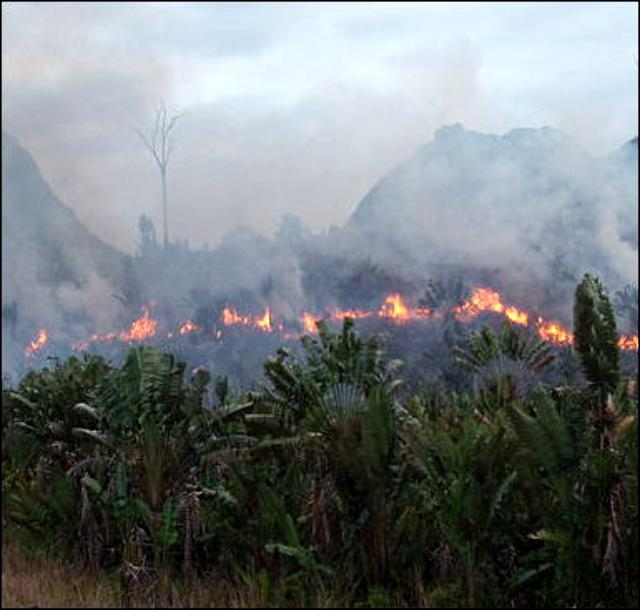fire: (0, 293, 638, 607), (17, 282, 638, 375)
